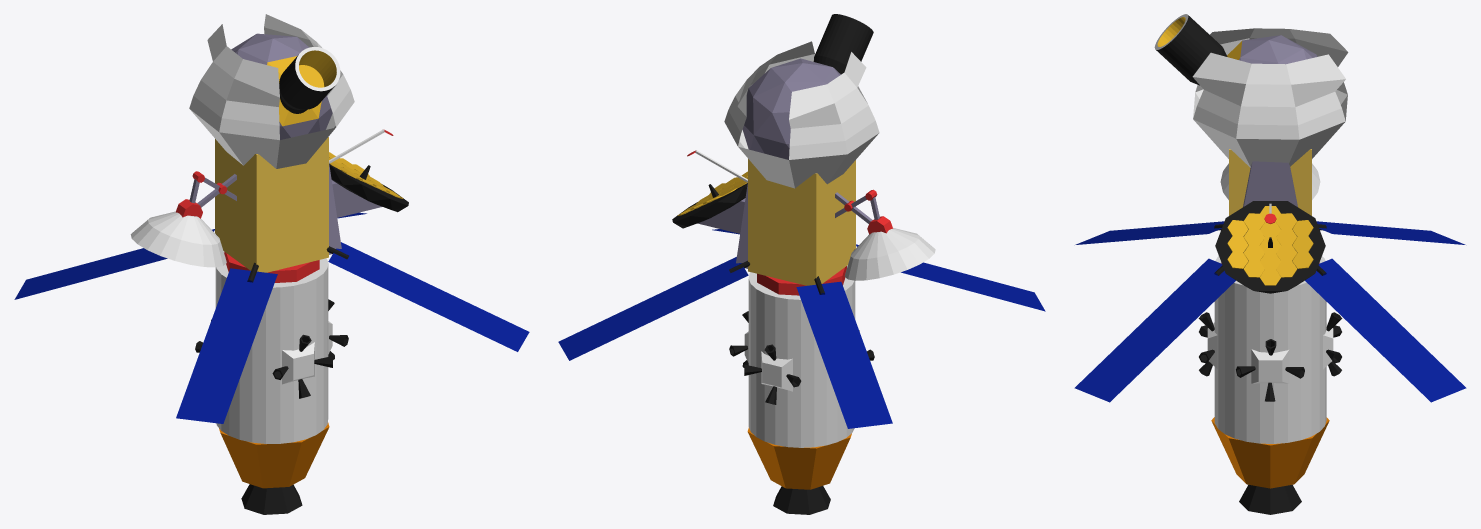
The model's file is satelite2.glb.
3 views of the same model, side by side, from view 1: azimuth 30°, elevation 25°; view 2: azimuth 150°, elevation 25°; view 3: azimuth 270°, elevation 25° (orthographic). The views are drawn at different scales.
Visible parts, largest first — view 1: satellite.001; view 2: satellite.001; view 3: satellite.001.
Part boxes in pixels (x1,y1,x2,y2): satellite.001: [14, 14, 529, 514]; satellite.001: [558, 14, 1045, 514]; satellite.001: [1074, 14, 1466, 514].
Bounding box in the file's own units: 6.85 × 8.99 × 6.62.
